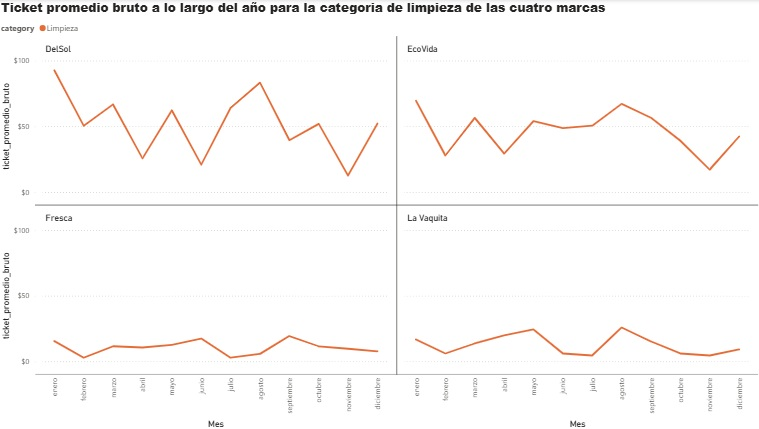

What the dashboard file says about the page in this screenshot:
{"tool":"powerbi","page":{"name":"Página 3","canvas":[1280,720],"ordinal":2},"visuals":[{"type":"lineChart","title":"Ticket promedio bruto a lo largo del año para la categoria de limpieza de las cuatro marcas","fields":{"Category":["dim_date_limpio.date.Variación.Jerarquía de fechas.Mes"],"Series":["raw_products_limpios.category"],"Y":["customer_limpio.ticket_promedio_bruto"],"Rows":["raw_products_limpios.brand"]},"box":[0,0,1280.9,719.1],"z":0}]}

Visuals, with their boxes in screenshot pixels (x1, y1, x2, y2), scaled from the page's 1280x720 canvas onto the 759x429 screenshot:
"Ticket promedio bruto a lo largo del año para la categoria de limpieza de las cuatro marcas" lineChart: (left=0, top=0, right=758, bottom=428)
